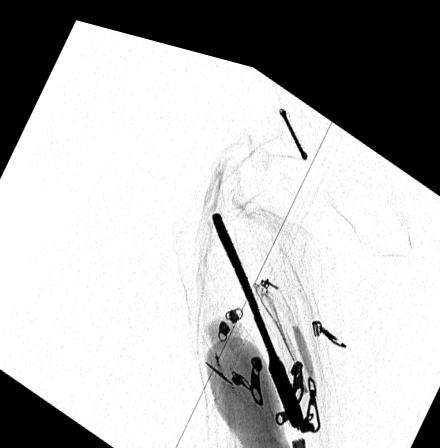Wrench: (208, 199, 306, 417)
